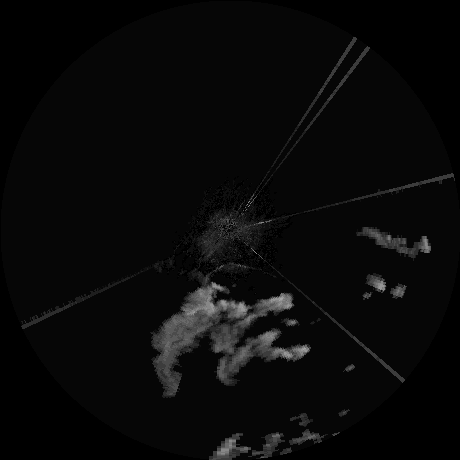frontgust: (205, 262, 253, 280)
